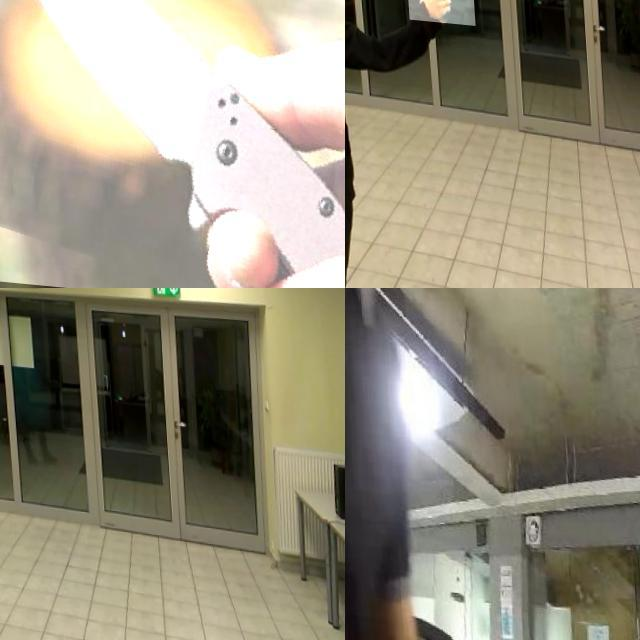-: (0, 0, 345, 288)
gun-knife-thesis - v11 Yolov5 augmented: (400, 0, 470, 43), (0, 414, 20, 459)
